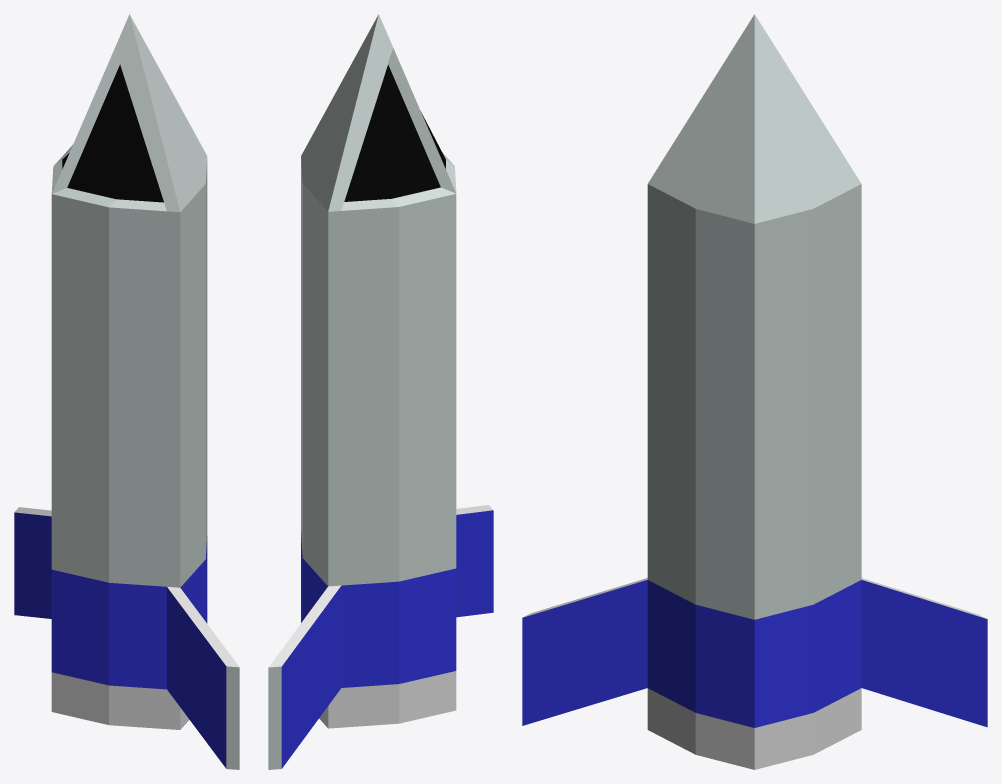
File: spacecraft.glb
3 views of the same model, side by side, from view 1: azimuth 30°, elevation 25°; view 2: azimuth 150°, elevation 25°; view 3: azimuth 270°, elevation 25° (orthographic). The views are drawn at different scales.
Parts seen in each view (by area): view 1: Cube; view 2: Cube; view 3: Cube.
Part boxes in pixels (x1,y1,x2,y2): Cube: (14,14,239,769); Cube: (268,14,493,769); Cube: (522,14,987,769).
Size of the model in its own units: 3.22 by 13.42 by 7.9.
